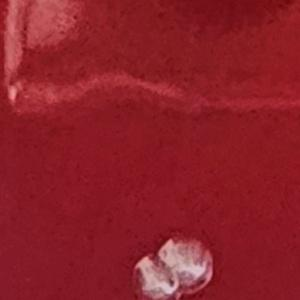colony: (154, 231, 222, 295), (126, 251, 187, 300)
